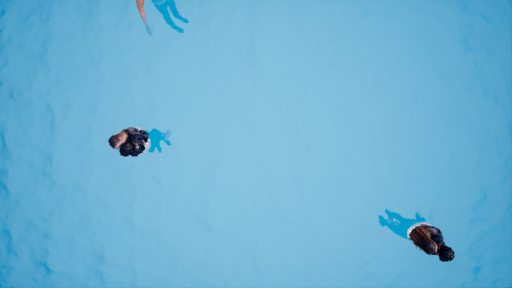person: (377, 207, 458, 264), (104, 124, 175, 160)
